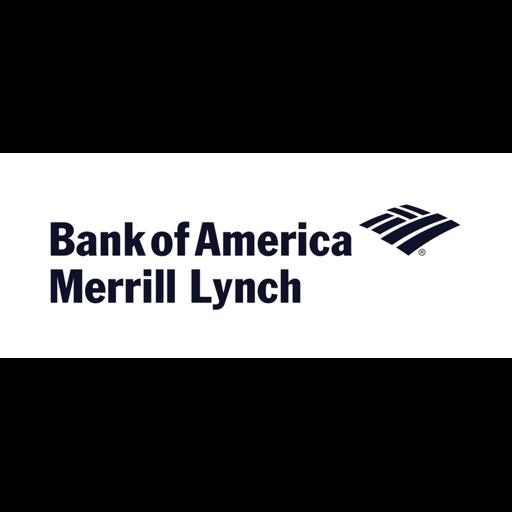Bank of America: (0, 153, 512, 358)
